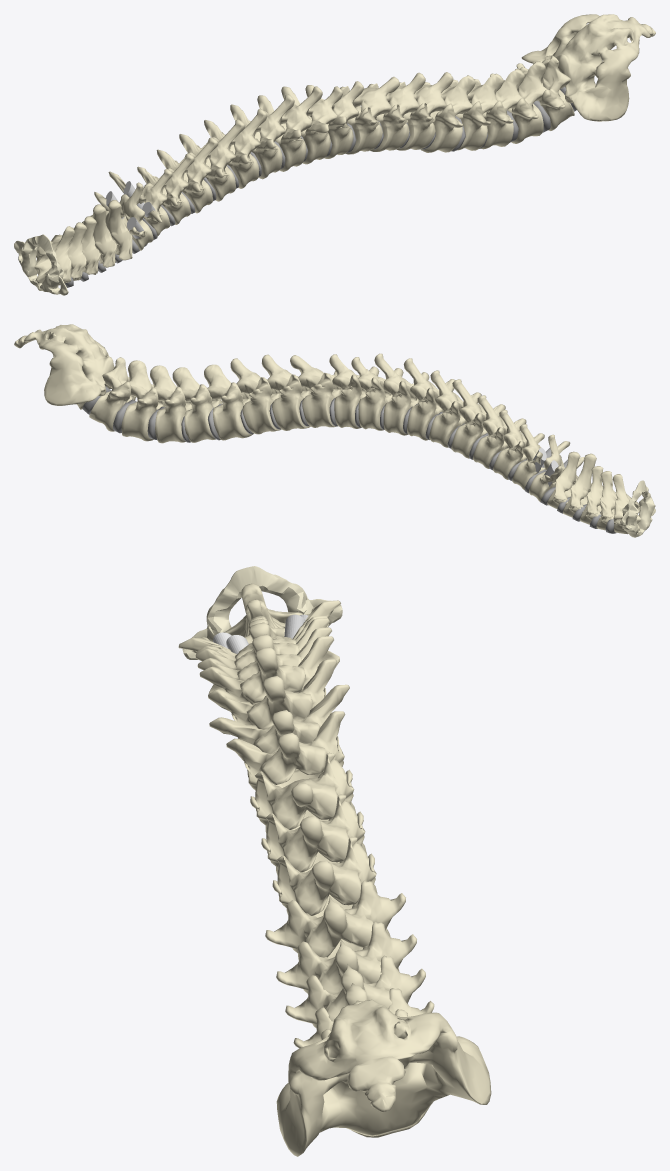
File: 4cylinders.dae
3 renders of one model, top to bottom at view 1: azimuth 30°, elevation 25°; view 2: azimuth 150°, elevation 25°; view 3: azimuth 270°, elevation 25°, orthographic. The views are drawn at different scales.
Visible parts, largest first — view 1: sacrum, t10, l1, t11, t7, t12, t6, l2, l4, t4, l3, t8 (+15 smaller); view 2: sacrum, l1, t10, l4, t12, l3, t11, l2, t7, t6, t9, l5 (+16 smaller); view 3: sacrum, l1, t12, t11, t10, t9, l2, t7, l3, atlas, t6, t8 (+3 smaller).
Boxes of the visible parts, x1=… form: sacrum: x1=521, y1=14, x2=655, y2=121; t10: x1=340, y1=76, x2=399, y2=154; l1: x1=420, y1=75, x2=475, y2=152; t11: x1=367, y1=72, x2=425, y2=151; t7: x1=257, y1=86, x2=322, y2=171; t12: x1=396, y1=72, x2=453, y2=150; t6: x1=230, y1=94, x2=294, y2=179; l2: x1=450, y1=73, x2=503, y2=150; l4: x1=490, y1=61, x2=546, y2=143; t4: x1=179, y1=119, x2=245, y2=201; l3: x1=470, y1=68, x2=524, y2=149; t8: x1=281, y1=86, x2=342, y2=164; sacrum: x1=14, y1=324, x2=114, y2=409; l1: x1=204, y1=364, x2=253, y2=440; t10: x1=290, y1=355, x2=341, y2=427; l4: x1=121, y1=360, x2=165, y2=441; t12: x1=230, y1=358, x2=281, y2=434; l3: x1=150, y1=365, x2=192, y2=443; t11: x1=261, y1=354, x2=310, y2=430; l2: x1=172, y1=367, x2=222, y2=442; t7: x1=374, y1=353, x2=429, y2=435; t6: x1=403, y1=358, x2=455, y2=440; t9: x1=329, y1=354, x2=379, y2=428; l5: x1=89, y1=357, x2=135, y2=431; sacrum: x1=276, y1=999, x2=491, y2=1156; l1: x1=265, y1=880, x2=405, y2=994; t12: x1=272, y1=837, x2=377, y2=917; t11: x1=261, y1=794, x2=366, y2=874; t10: x1=250, y1=752, x2=356, y2=833; t9: x1=226, y1=711, x2=345, y2=790; l2: x1=276, y1=921, x2=416, y2=1004; t7: x1=208, y1=659, x2=337, y2=729; l3: x1=285, y1=955, x2=425, y2=1028; atlas: x1=182, y1=566, x2=342, y2=659; t6: x1=199, y1=636, x2=333, y2=704; t8: x1=209, y1=684, x2=349, y2=770.
Size of the model in its own units: 1.33 by 0.2987 by 0.2586.
